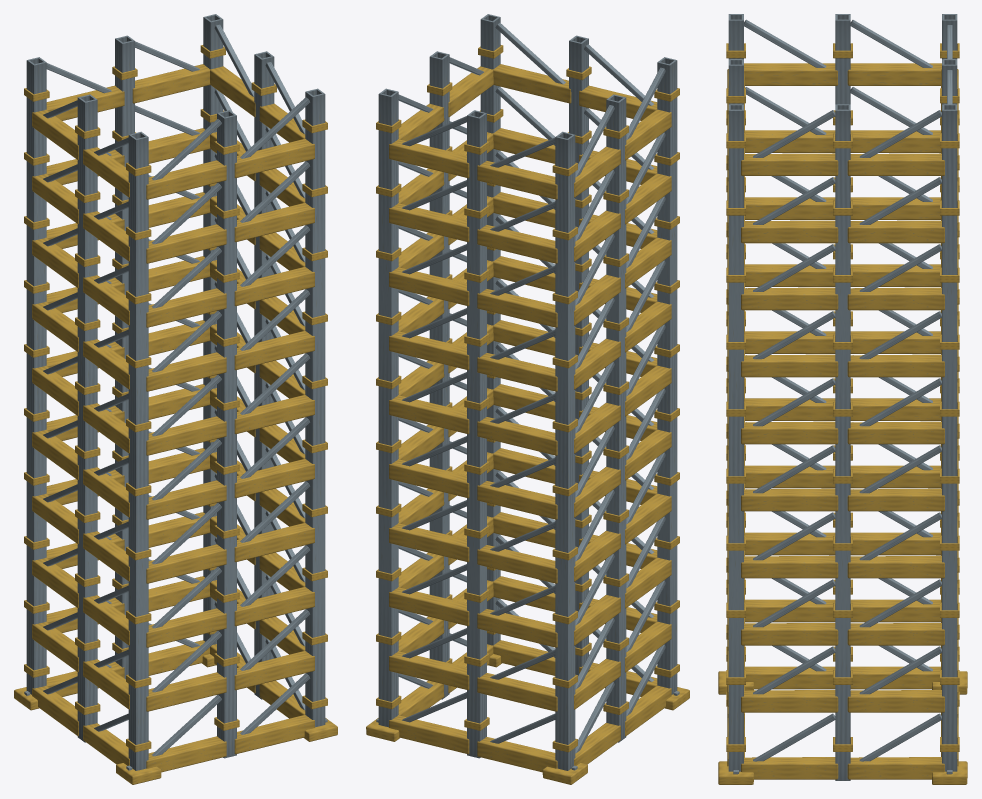
The picture shows the model from 3 angles, left to right: view 1: azimuth 30°, elevation 25°; view 2: azimuth 150°, elevation 25°; view 3: azimuth 270°, elevation 25°; orthographic projection. The views are drawn at different scales.
Parts seen in each view (by area): view 1: Tier 0 side 0 post 0, Tier 0 side 1 post 0, Tier 0 side 0 post 1, Tier 0 side 3 post 0, Tier 0 side 3 post 1, Tier 0 side 1 post 1, Tier 0 side 2 post 1, Tier 0 side 2 post 0, Tier 0 bay 0-7-0 service deck, Tier 0 bay 0-3-0 service deck, Tier 0 bay 0-4-0 service deck, Tier 0 bay 0-5-0 service deck (+89 smaller); view 2: Tier 0 side 3 post 0, Tier 0 side 2 post 0, Tier 0 side 2 post 1, Tier 0 side 0 post 0, Tier 0 side 3 post 1, Tier 0 side 1 post 1, Tier 0 side 0 post 1, Tier 0 side 1 post 0, Tier 0 bay 2-1-1 service deck, Tier 0 bay 2-4-1 service deck, Tier 0 bay 2-8-1 service deck, Tier 0 bay 2-3-1 service deck (+61 smaller); view 3: Tier 0 side 1 post 0, Tier 0 side 2 post 0, Tier 0 side 1 post 1, Tier 0 bay 1-8-0 service deck, Tier 0 bay 1-8-1 service deck, Tier 0 bay 1-7-0 service deck, Tier 0 bay 1-7-1 service deck, Tier 0 bay 1-6-1 service deck, Tier 0 bay 1-6-0 service deck, Tier 0 bay 1-5-1 service deck, Tier 0 bay 1-5-0 service deck, Tier 0 bay 1-4-0 service deck (+62 smaller).
Part boxes in pixels (left/top/right/bottom): Tier 0 side 0 post 0: left=128, top=131, right=148, bottom=770; Tier 0 side 1 post 0: left=305, top=88, right=325, bottom=727; Tier 0 side 0 post 1: left=217, top=110, right=236, bottom=758; Tier 0 side 3 post 0: left=26, top=57, right=46, bottom=694; Tier 0 side 3 post 1: left=77, top=94, right=97, bottom=742; Tier 0 side 1 post 1: left=254, top=51, right=274, bottom=699; Tier 0 side 2 post 1: left=115, top=35, right=134, bottom=679; Tier 0 side 2 post 0: left=203, top=14, right=223, bottom=644; Tier 0 bay 0-7-0 service deck: left=146, top=288, right=226, bottom=327; Tier 0 bay 0-3-0 service deck: left=146, top=544, right=226, bottom=583; Tier 0 bay 0-4-0 service deck: left=146, top=480, right=226, bottom=519; Tier 0 bay 0-5-0 service deck: left=146, top=416, right=226, bottom=455; Tier 0 side 3 post 0: left=555, top=131, right=575, bottom=770; Tier 0 side 2 post 0: left=378, top=88, right=398, bottom=727; Tier 0 side 2 post 1: left=467, top=110, right=486, bottom=758; Tier 0 side 0 post 0: left=657, top=57, right=677, bottom=694; Tier 0 side 3 post 1: left=606, top=94, right=626, bottom=742; Tier 0 side 1 post 1: left=429, top=51, right=449, bottom=699; Tier 0 side 0 post 1: left=569, top=35, right=588, bottom=675; Tier 0 side 1 post 0: left=480, top=14, right=500, bottom=645; Tier 0 bay 2-1-1 service deck: left=477, top=673, right=557, bottom=711; Tier 0 bay 2-4-1 service deck: left=477, top=481, right=557, bottom=519; Tier 0 bay 2-8-1 service deck: left=477, top=225, right=557, bottom=263; Tier 0 bay 2-3-1 service deck: left=477, top=545, right=557, bottom=583; Tier 0 side 1 post 0: left=728, top=104, right=743, bottom=771; Tier 0 side 2 post 0: left=942, top=104, right=957, bottom=771; Tier 0 side 1 post 1: left=835, top=104, right=850, bottom=780; Tier 0 bay 1-8-0 service deck: left=741, top=220, right=838, bottom=243; Tier 0 bay 1-8-1 service deck: left=847, top=220, right=944, bottom=243; Tier 0 bay 1-7-0 service deck: left=741, top=287, right=838, bottom=310; Tier 0 bay 1-7-1 service deck: left=847, top=287, right=944, bottom=310; Tier 0 bay 1-6-1 service deck: left=847, top=354, right=944, bottom=377; Tier 0 bay 1-6-0 service deck: left=741, top=354, right=838, bottom=377; Tier 0 bay 1-5-1 service deck: left=847, top=421, right=944, bottom=444; Tier 0 bay 1-5-0 service deck: left=741, top=421, right=838, bottom=444; Tier 0 bay 1-4-0 service deck: left=741, top=488, right=838, bottom=511.
Bounding box in the file's own units: 1.05 × 3.12 × 1.05.
2 materials, 2 textured.
